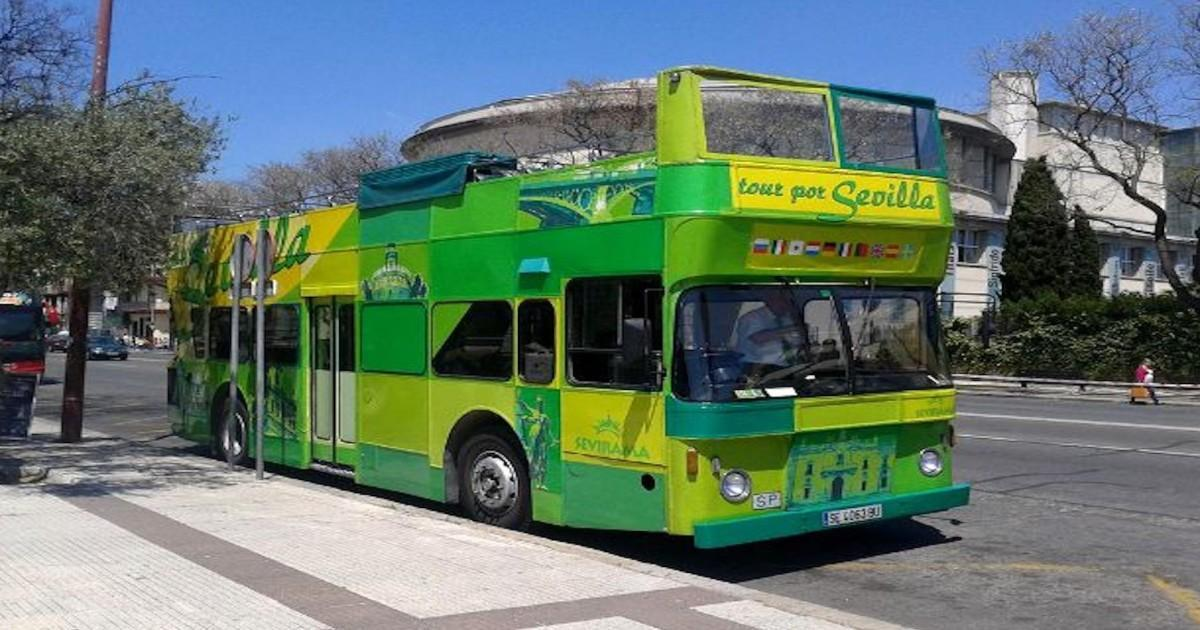Bus: (165, 68, 973, 553)
